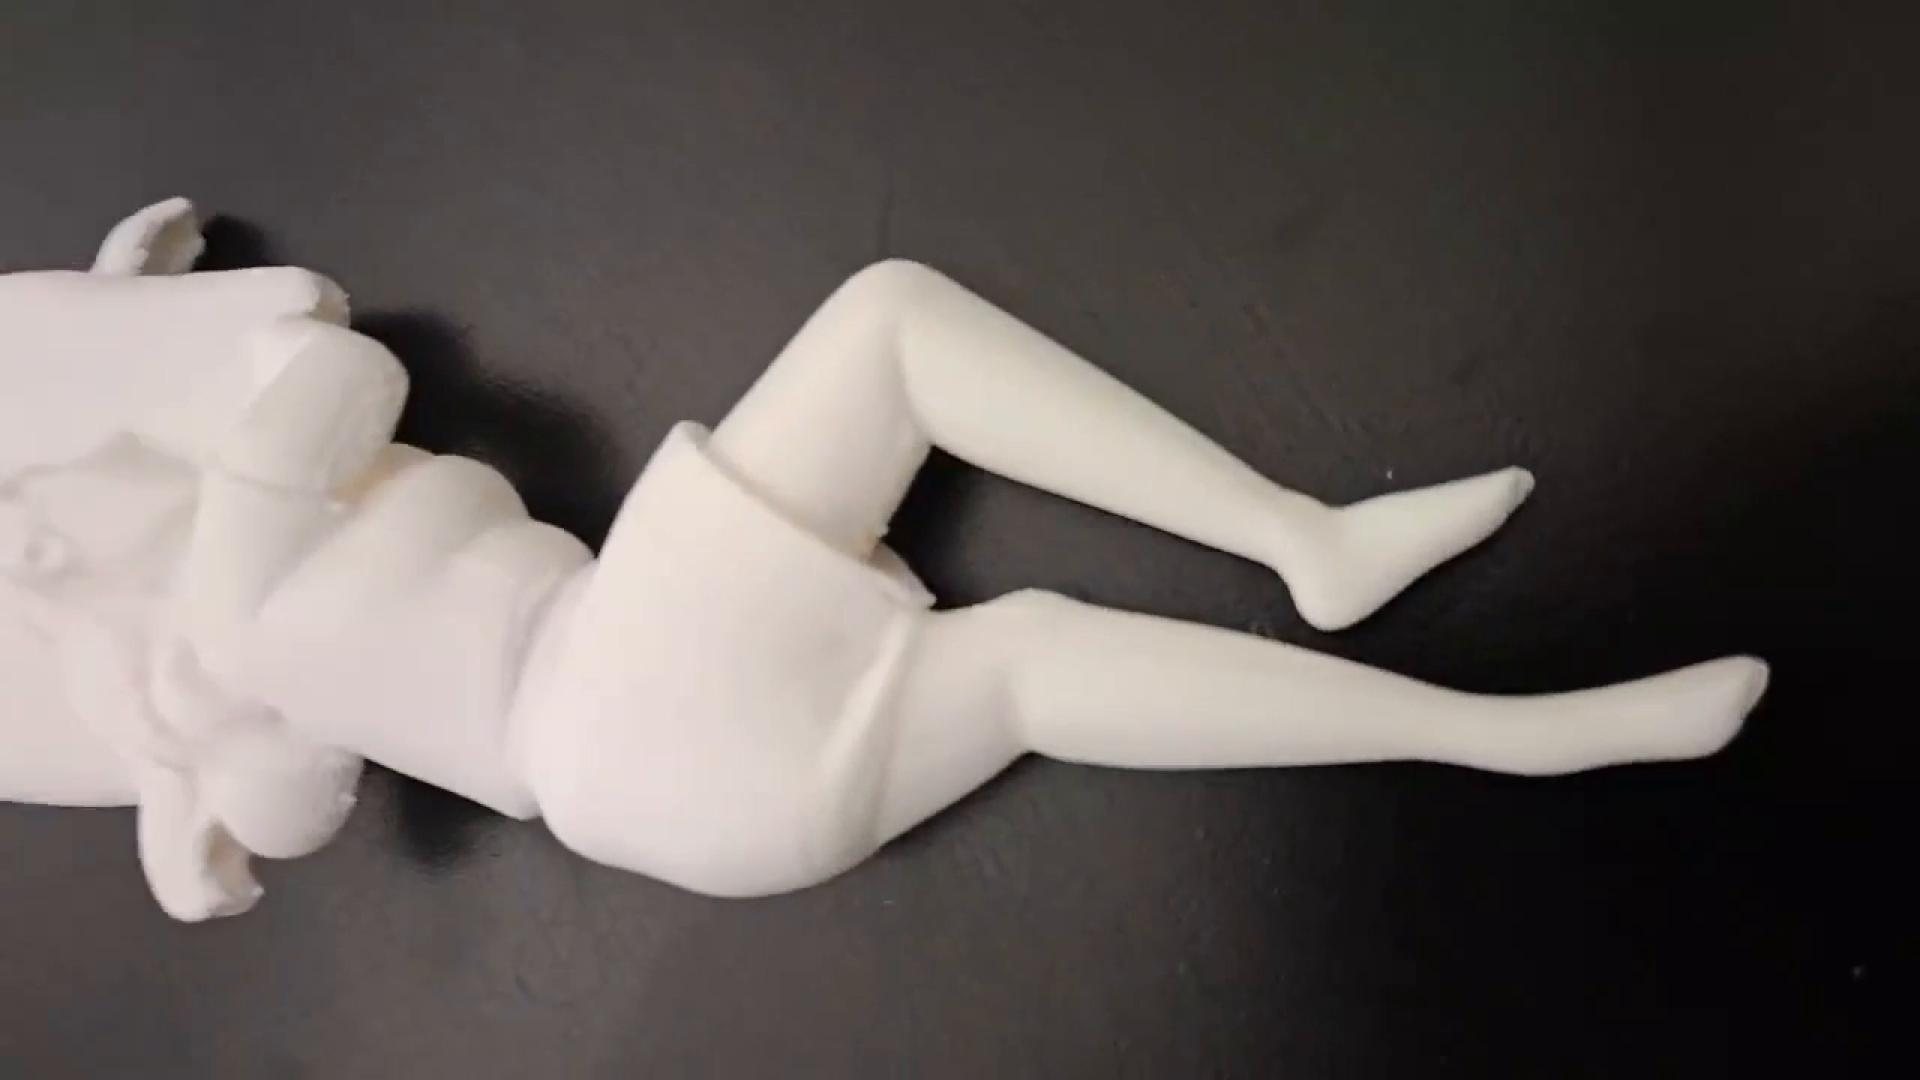Good-style: (0, 193, 1764, 920)
